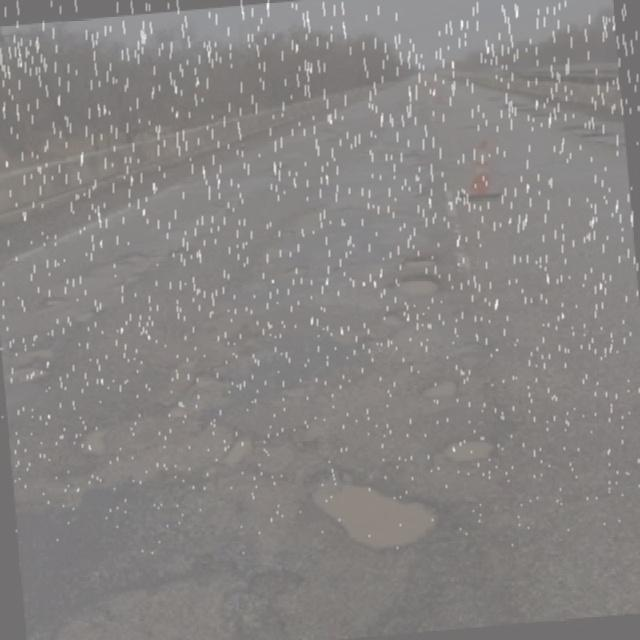Pothole: (280, 443, 445, 579), (81, 229, 176, 294), (359, 306, 437, 376), (365, 128, 451, 187), (382, 245, 452, 312), (430, 432, 526, 478), (11, 332, 73, 398), (164, 364, 233, 423), (222, 436, 274, 496), (406, 363, 484, 398), (78, 413, 115, 476), (273, 261, 323, 296), (289, 210, 327, 232)
